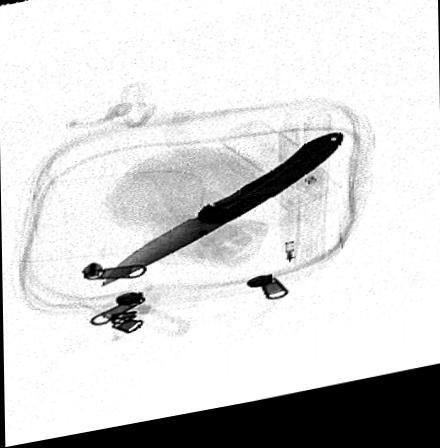Knife: (99, 142, 343, 291)
